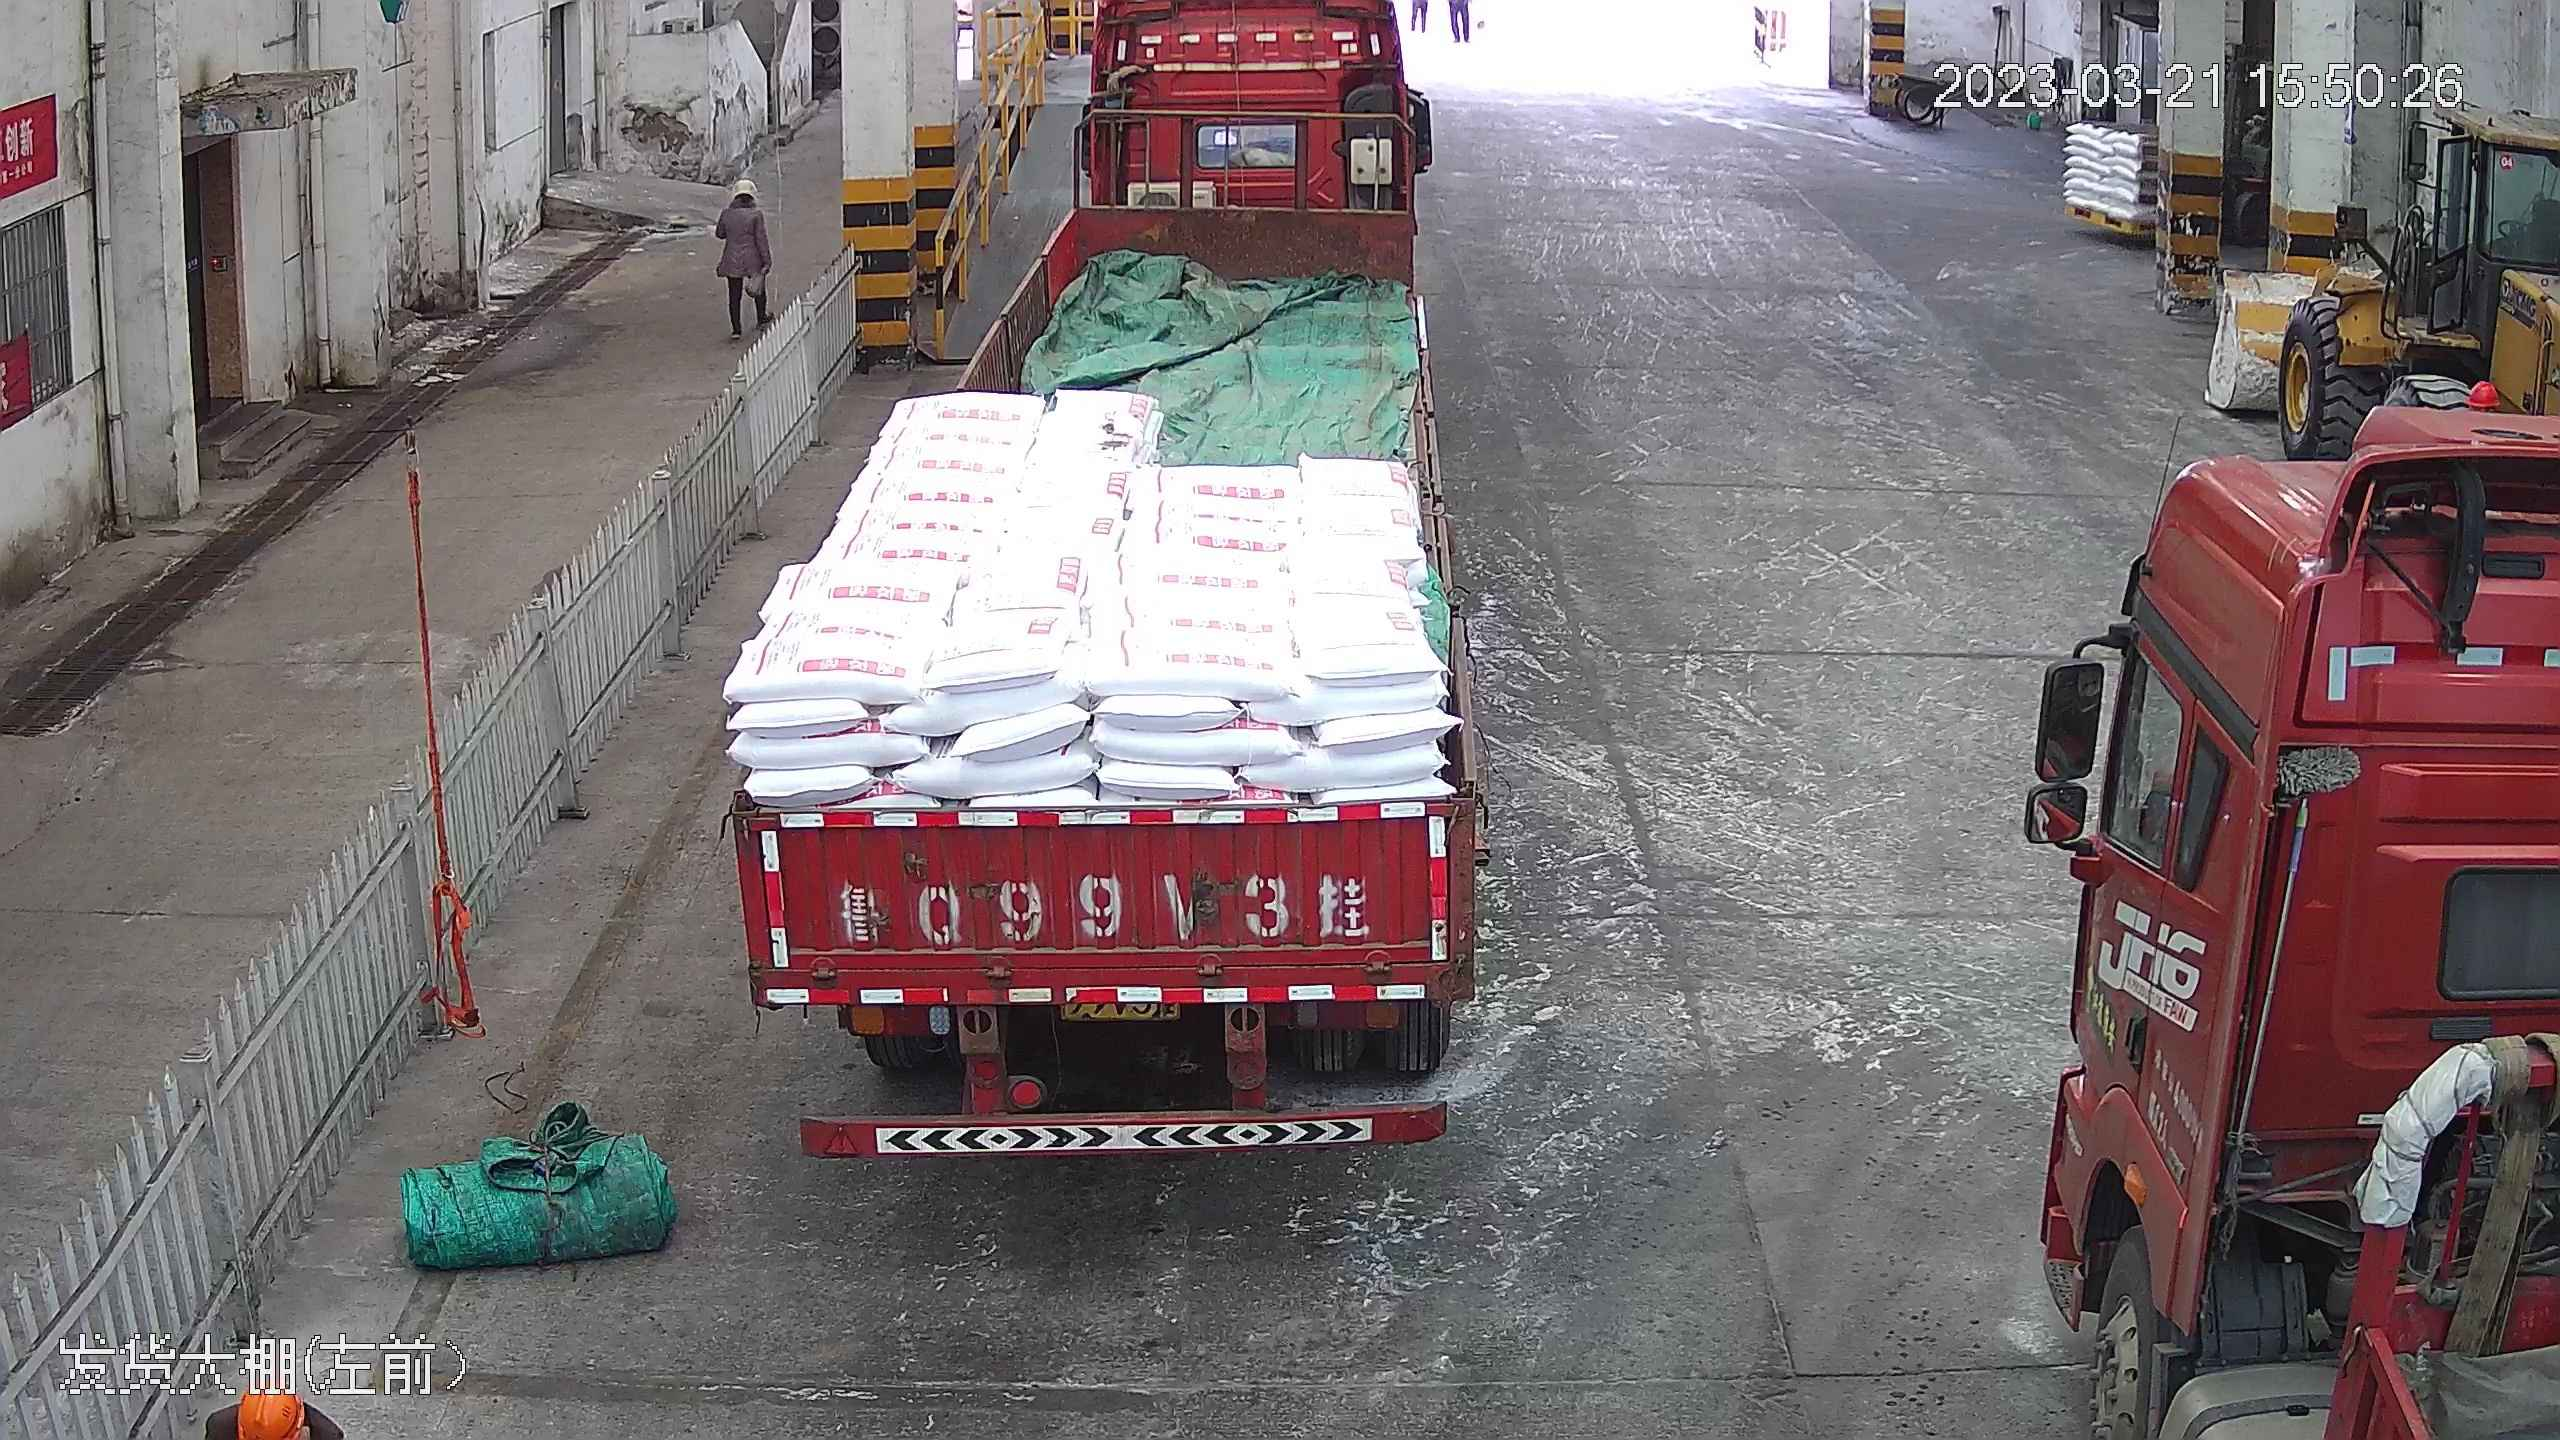head: (716, 173, 767, 230)
helmet: (2465, 374, 2501, 412), (729, 175, 758, 199)
people: (709, 169, 777, 345)
truck: (713, 1, 1487, 1155), (2022, 388, 2560, 1440)
